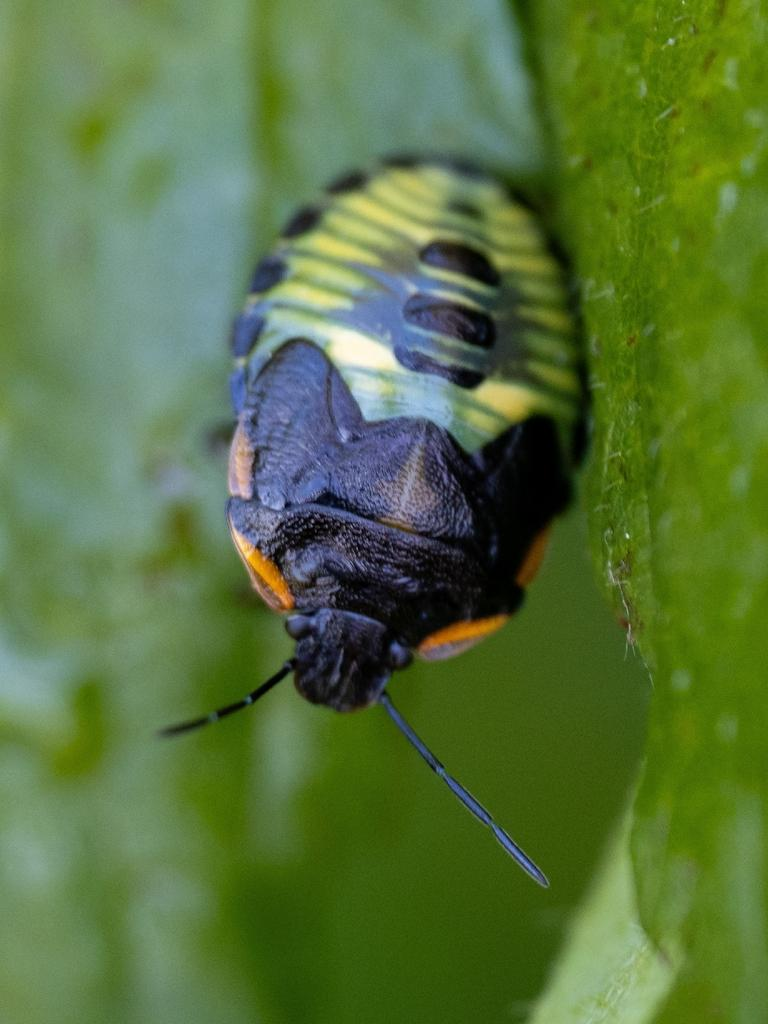stink_bugs: (81, 65, 715, 938)
